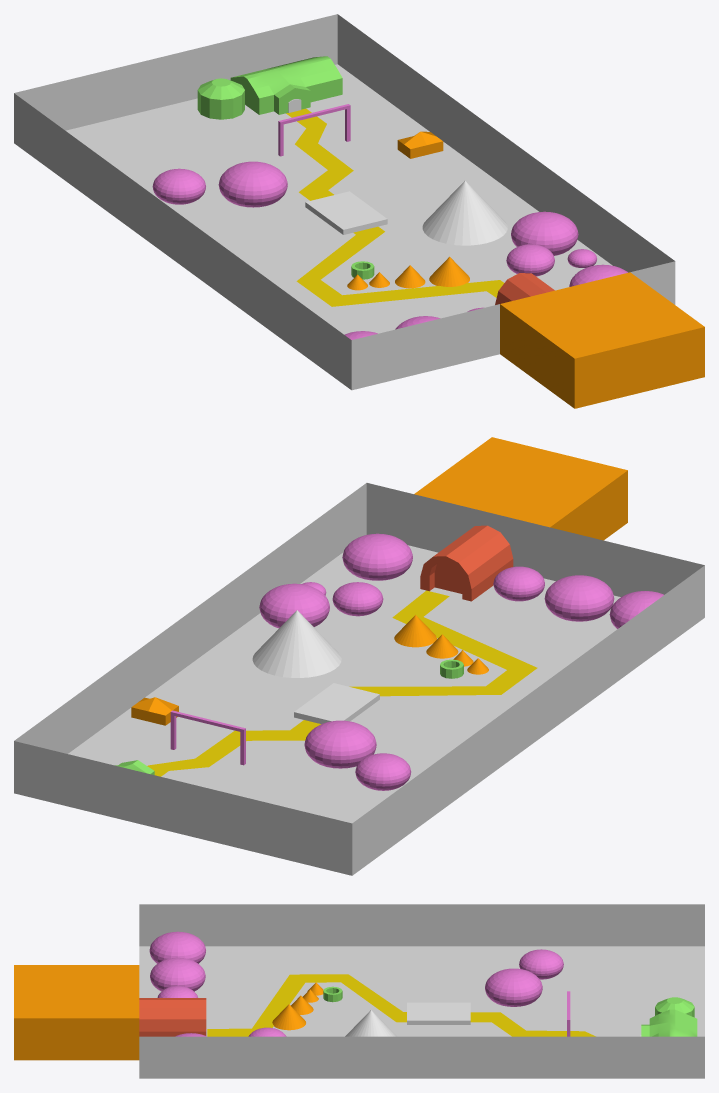
File: Escenario_Blocking.fbx
The picture shows the model from 3 angles, top to bottom: view 1: azimuth 30°, elevation 25°; view 2: azimuth 150°, elevation 25°; view 3: azimuth 270°, elevation 25°; orthographic projection. The views are drawn at different scales.
Parts seen in each view (by area): view 1: Piso, camino, Casita, Roca, Arbol, Arbol.002, puente, coso granja, Arbol.001, Arbol.003, cueva, cabaña (+3 smaller); view 2: Piso, camino, cueva, Roca, Arbol, Arbol.008, Arbol.006, Arbol.002, puente, Arbol.001, Arbol.005, Arbol.003 (+4 smaller); view 3: Piso, camino, cueva, Arbol, Arbol.006, puente, Arbol.007, Casita, Arbol.001, Roca, Roca.001, coso granja (+1 smaller).
Boxes of the visible parts, bbox=[...] form: Piso: bbox=[14, 14, 704, 408]; camino: bbox=[286, 108, 503, 306]; Casita: bbox=[230, 56, 342, 114]; Roca: bbox=[422, 180, 507, 245]; Arbol: bbox=[218, 161, 287, 207]; Arbol.002: bbox=[511, 211, 578, 255]; puente: bbox=[305, 191, 387, 234]; coso granja: bbox=[197, 78, 244, 119]; Arbol.001: bbox=[152, 168, 205, 204]; Arbol.003: bbox=[506, 244, 554, 276]; cueva: bbox=[495, 273, 554, 304]; cabaña: bbox=[397, 131, 443, 158]; Piso: bbox=[14, 437, 704, 875]; camino: bbox=[147, 590, 537, 776]; cueva: bbox=[420, 525, 513, 601]; Roca: bbox=[252, 610, 341, 677]; Arbol: bbox=[304, 720, 376, 768]; Arbol.008: bbox=[342, 533, 412, 580]; Arbol.006: bbox=[544, 575, 614, 621]; Arbol.002: bbox=[259, 583, 329, 628]; puente: bbox=[294, 683, 379, 723]; Arbol.001: bbox=[355, 753, 411, 790]; Arbol.005: bbox=[493, 566, 544, 601]; Arbol.003: bbox=[332, 582, 383, 616]; Piso: bbox=[14, 904, 704, 1078]; camino: bbox=[207, 974, 595, 1036]; cueva: bbox=[139, 998, 206, 1036]; Arbol: bbox=[485, 968, 542, 1006]; Arbol.006: bbox=[150, 957, 205, 991]; puente: bbox=[407, 1002, 470, 1024]; Arbol.007: bbox=[149, 931, 205, 963]; Casita: bbox=[641, 1009, 697, 1036]; Arbol.001: bbox=[519, 949, 563, 979]; Roca: bbox=[345, 1010, 396, 1036]; Roca.001: bbox=[272, 1004, 305, 1030]; coso granja: bbox=[655, 997, 694, 1017].
Bounding box in the file's own units: 9392 × 1581 × 20722.
